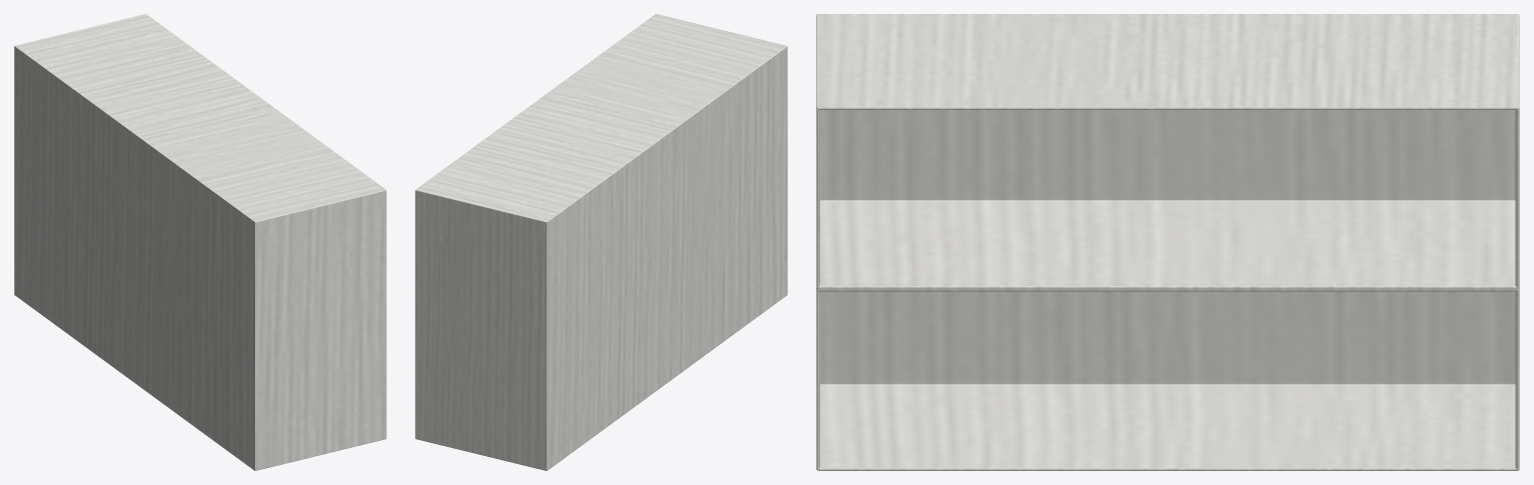
The model's file is LongCabinet.fbx.
3 views of the same model, side by side, from view 1: azimuth 30°, elevation 25°; view 2: azimuth 150°, elevation 25°; view 3: azimuth 270°, elevation 25° (orthographic). The views are drawn at different scales.
Visible parts, largest first — view 1: pCube5; view 2: pCube5; view 3: pCube5.
Part boxes in pixels (x1=…): pCube5: x1=14, y1=14, x2=386, y2=470; pCube5: x1=415, y1=14, x2=787, y2=470; pCube5: x1=816, y1=14, x2=1519, y2=470.
Size of the model in its own units: 35.52 by 64.11 by 112.
1 material, 1 textured.
